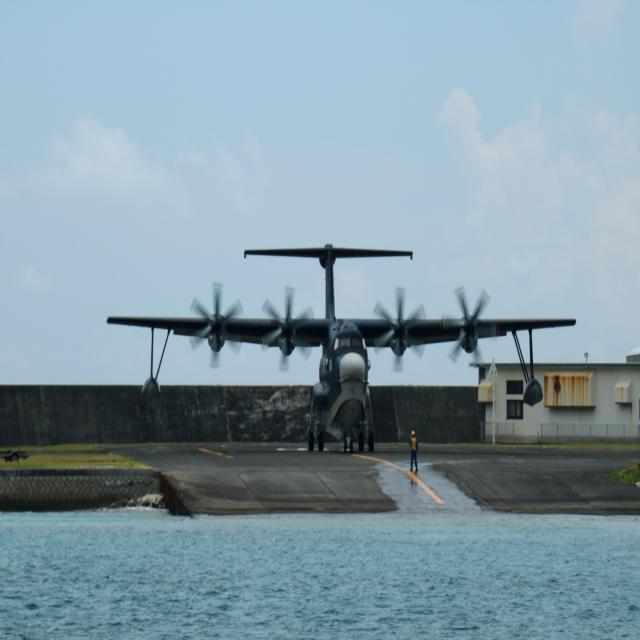MIL_Plane: (106, 241, 576, 452)
